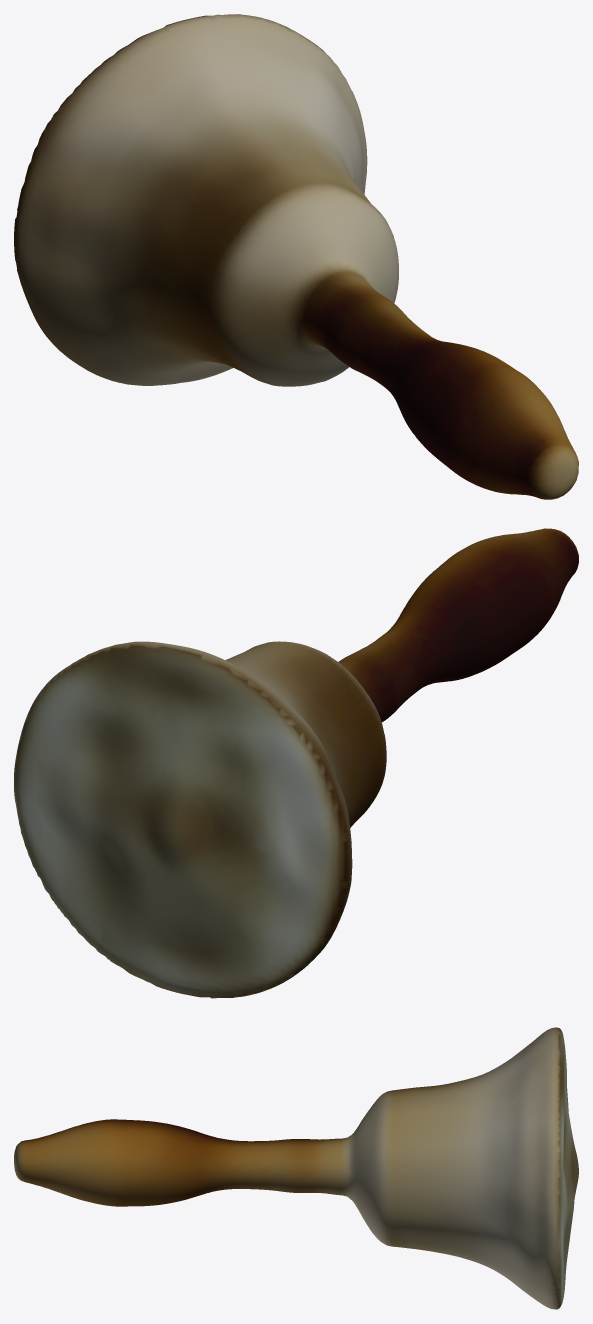
File: bell.glb
The picture shows the model from 3 angles, top to bottom: view 1: azimuth 30°, elevation 25°; view 2: azimuth 150°, elevation 25°; view 3: azimuth 270°, elevation 25°; orthographic projection. The views are drawn at different scales.
Bounding box in the file's own units: 0.5062 × 0.4978 × 0.9997.
